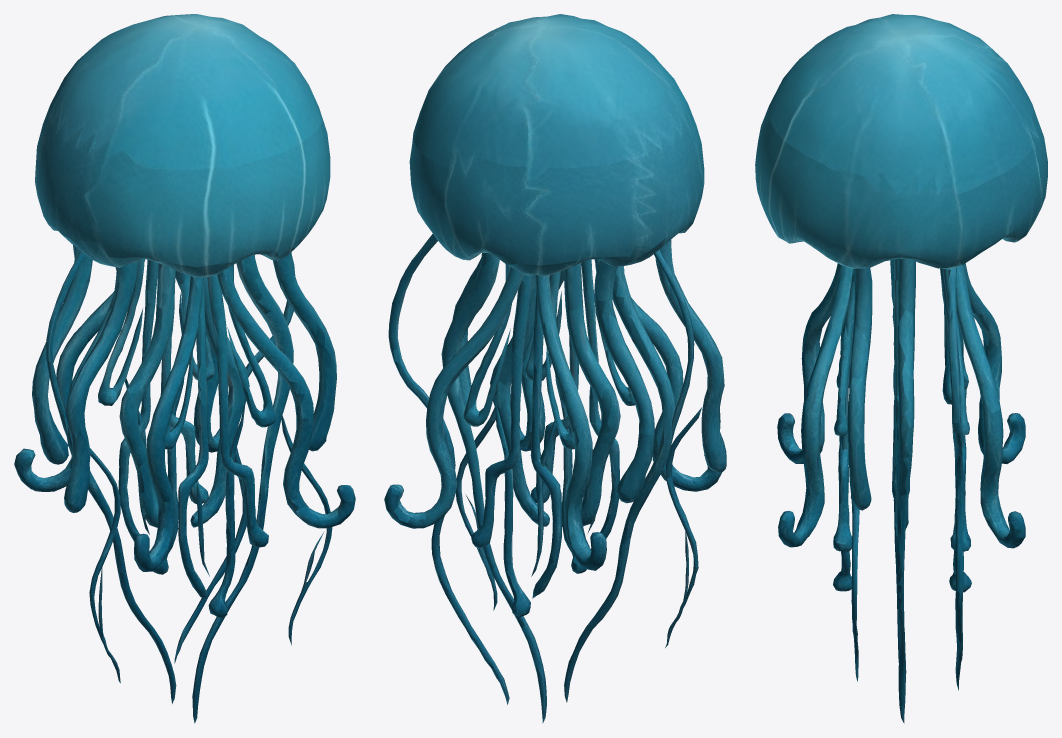
Rendered from jelly2.glb.
3 views of the same model, side by side, from view 1: azimuth 30°, elevation 25°; view 2: azimuth 150°, elevation 25°; view 3: azimuth 270°, elevation 25° (orthographic).
Parts seen in each view (by area): view 1: mesh_node; view 2: mesh_node; view 3: mesh_node.
Boxes of the visible parts, bbox=[...] form: mesh_node: bbox=[14, 14, 355, 723]; mesh_node: bbox=[384, 14, 726, 723]; mesh_node: bbox=[755, 14, 1047, 723].
Size of the model in its own units: 0.4258 by 1 by 0.3857.
Materials: 1 (1 with a texture image).
